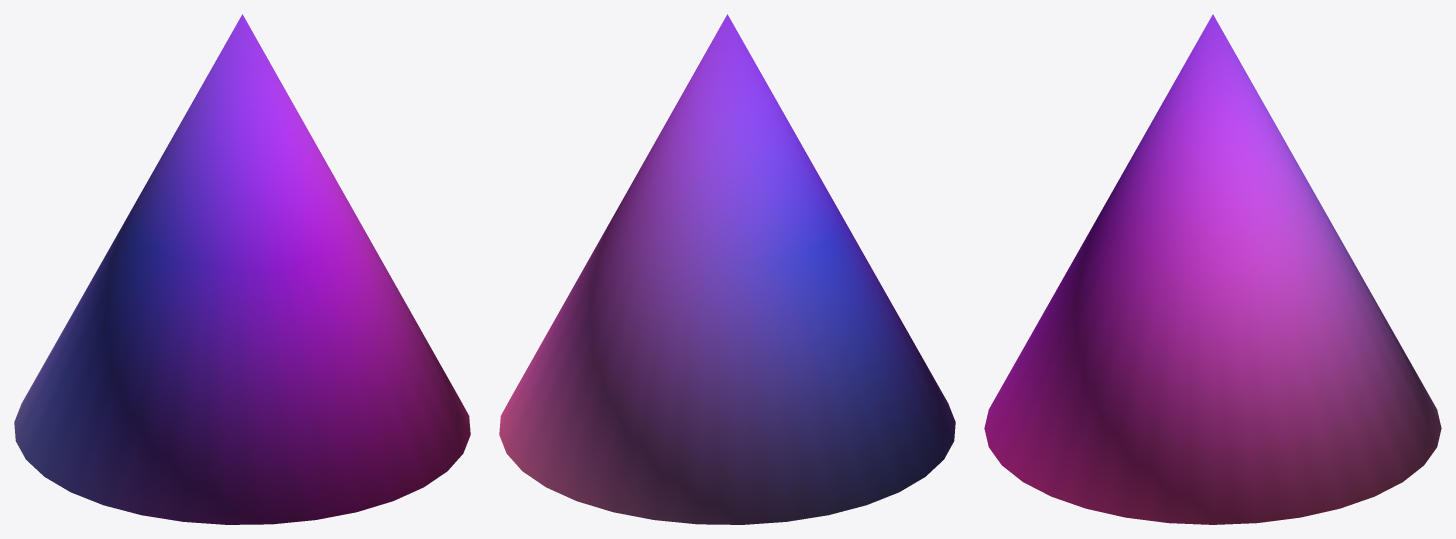
3 renders of one model, left to right at view 1: azimuth 30°, elevation 25°; view 2: azimuth 150°, elevation 25°; view 3: azimuth 270°, elevation 25°, orthographic.
Parts seen in each view (by area): view 1: Cone; view 2: Cone; view 3: Cone.
Part boxes in pixels (x1,y1,x2,y2): Cone: (14,14,470,524); Cone: (499,14,955,524); Cone: (984,14,1441,524).
Size of the model in its own units: 200 by 200 by 200.
